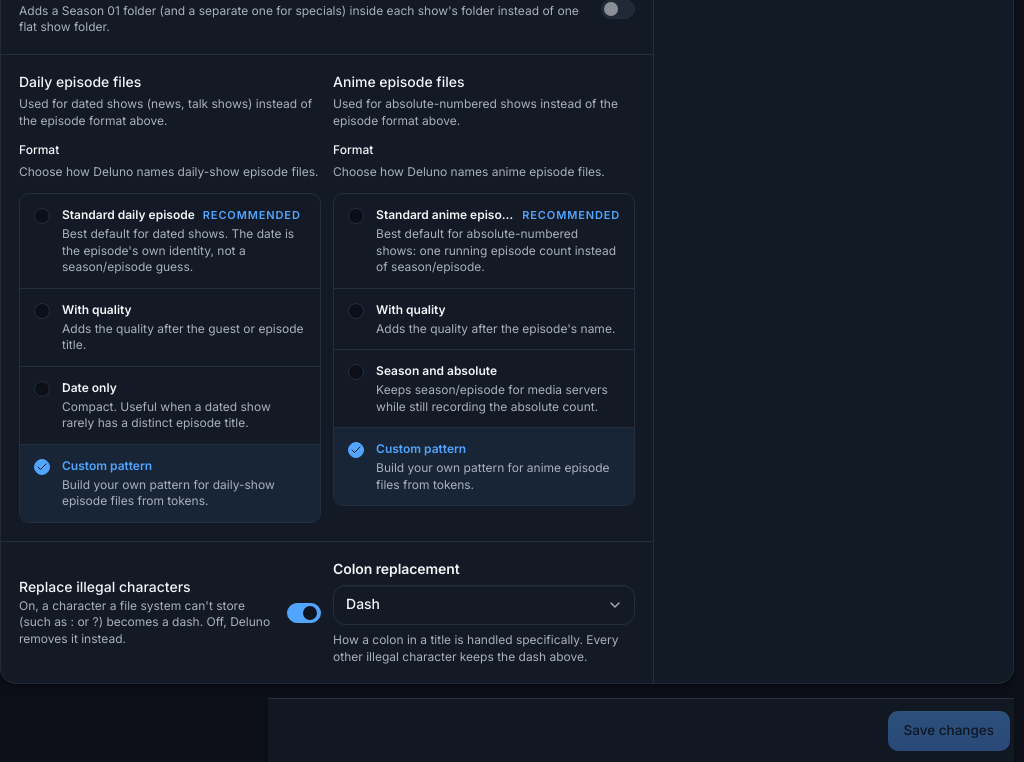
Test: saving the naming choices › shows the server's own words in the footer when the save is refused, and sends only after a change
(page scrolled)
Expected: the button "Save changes" is disabled, 888,710 -> 1010,750
Click the switch named "Replace illegal characters" below "Replace illegal characters" at (304, 612), box 287,602 -> 321,622
(page scrolled)
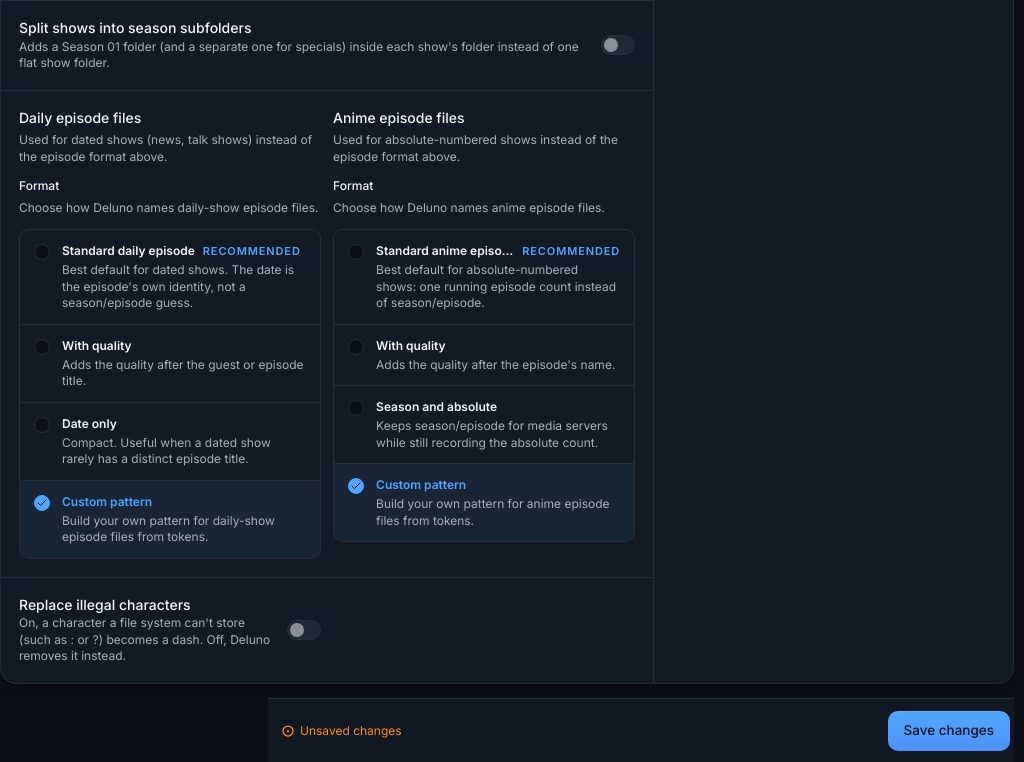
Click the button "Save changes" at (949, 730), box 888,710 -> 1010,750
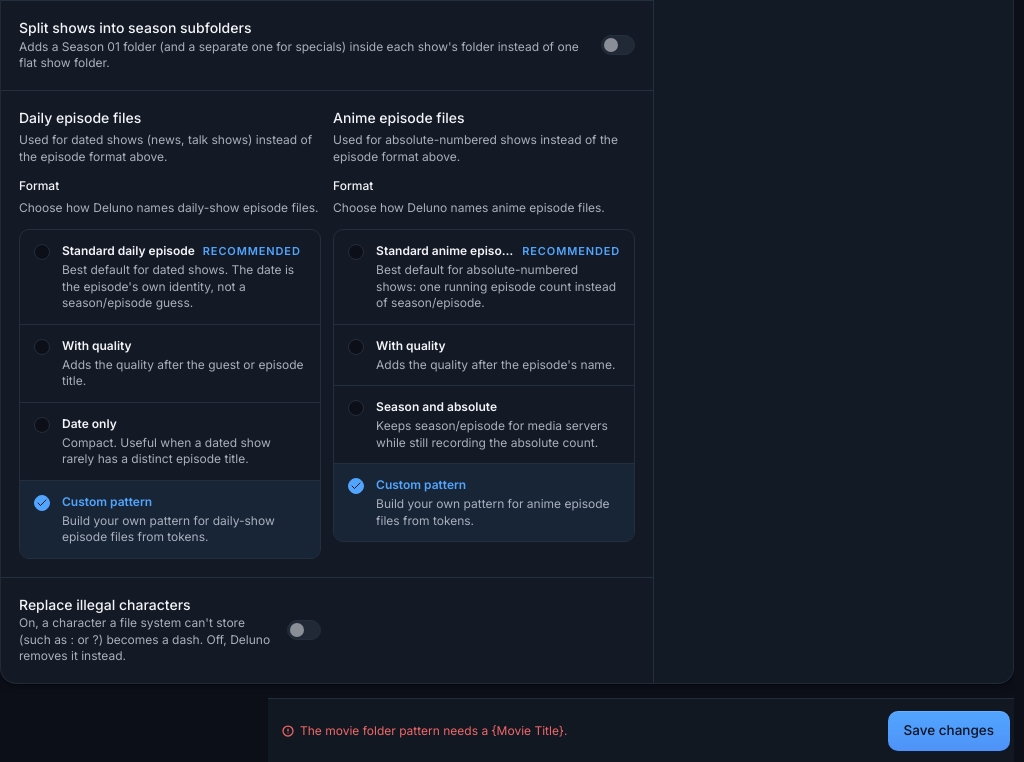
Expected: the switch named "Replace illegal characters" below "Replace illegal characters" is not checked, 287,620 -> 321,640
Expected: the text "The movie folder pattern needs a {Movie Title}." is shown, 300,722 -> 567,740
